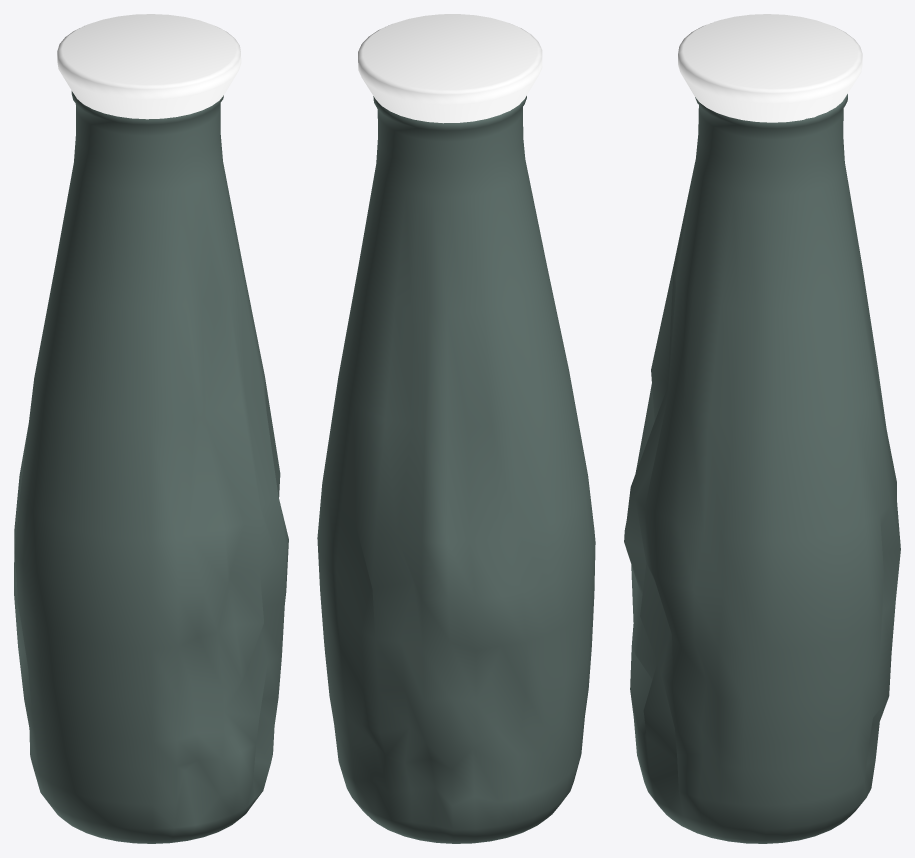
Rendered from heiya.glb.
The picture shows the model from 3 angles, left to right: view 1: azimuth 30°, elevation 25°; view 2: azimuth 150°, elevation 25°; view 3: azimuth 270°, elevation 25°; orthographic projection.
Parts seen in each view (by area): view 1: Cylinder.002, Cylindre.008; view 2: Cylinder.002, Cylindre.008; view 3: Cylinder.002, Cylindre.008.
Part boxes in pixels (x1,y1,x2,y2): Cylinder.002: (14, 91, 288, 843); Cylindre.008: (57, 14, 241, 119); Cylinder.002: (317, 96, 595, 843); Cylindre.008: (358, 14, 542, 123); Cylinder.002: (624, 94, 900, 843); Cylindre.008: (678, 14, 862, 122).
Size of the model in its own units: 1.25 by 3.77 by 1.25.
